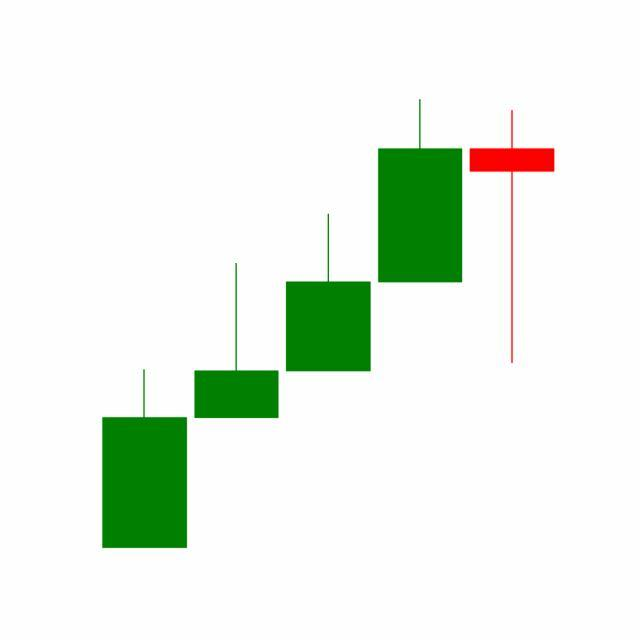Spinning Top: (466, 108, 559, 366)
